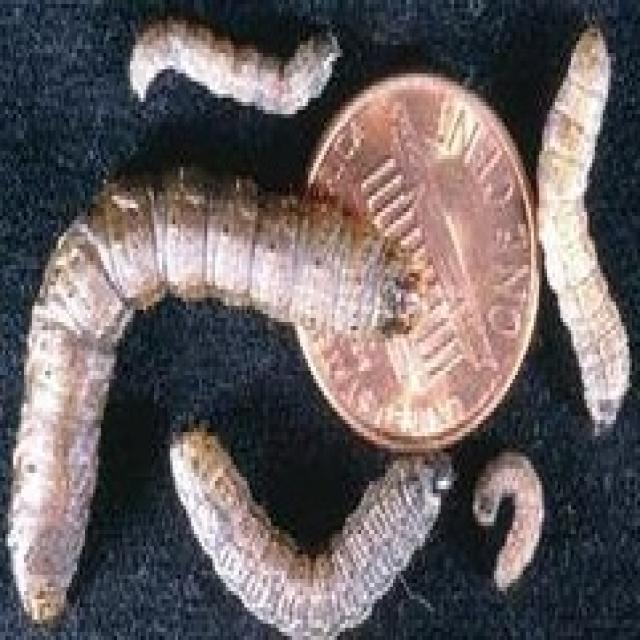black cutworm: (9, 180, 418, 621), (156, 417, 446, 637), (520, 18, 629, 450), (111, 11, 353, 138), (453, 450, 554, 597)
